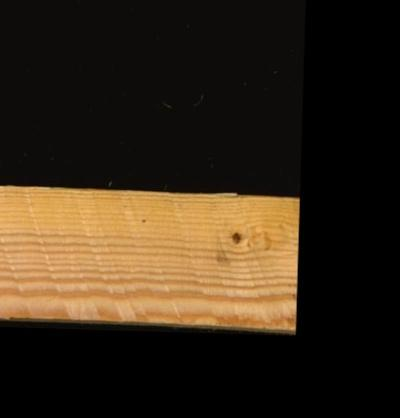dry_knot: (223, 224, 247, 247)
